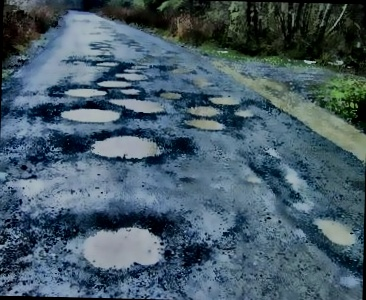pothole: (81, 211, 178, 274), (89, 132, 165, 161), (314, 214, 360, 245), (58, 106, 124, 123), (183, 116, 229, 131), (64, 85, 109, 98), (95, 78, 135, 89), (189, 104, 221, 117), (209, 94, 242, 104), (115, 71, 150, 80), (157, 89, 184, 99), (233, 107, 256, 117), (96, 59, 120, 67)
